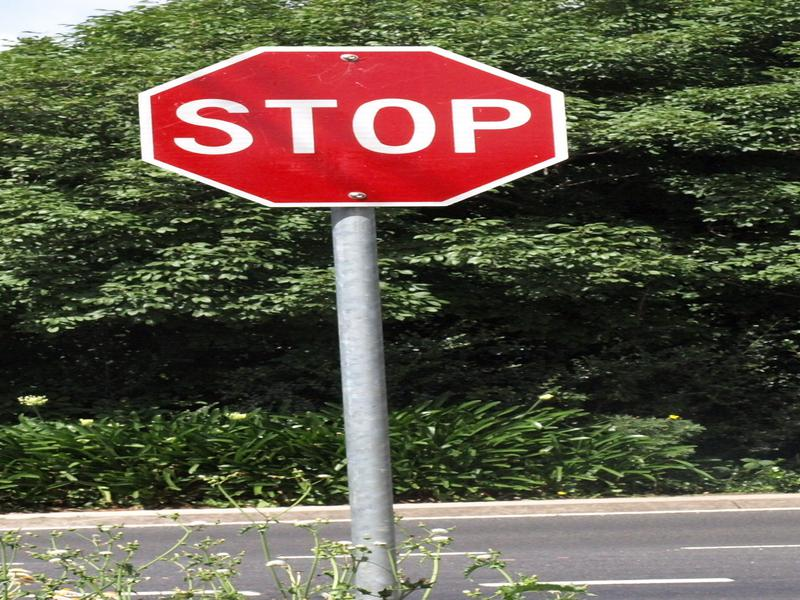stop: (137, 46, 575, 218)
